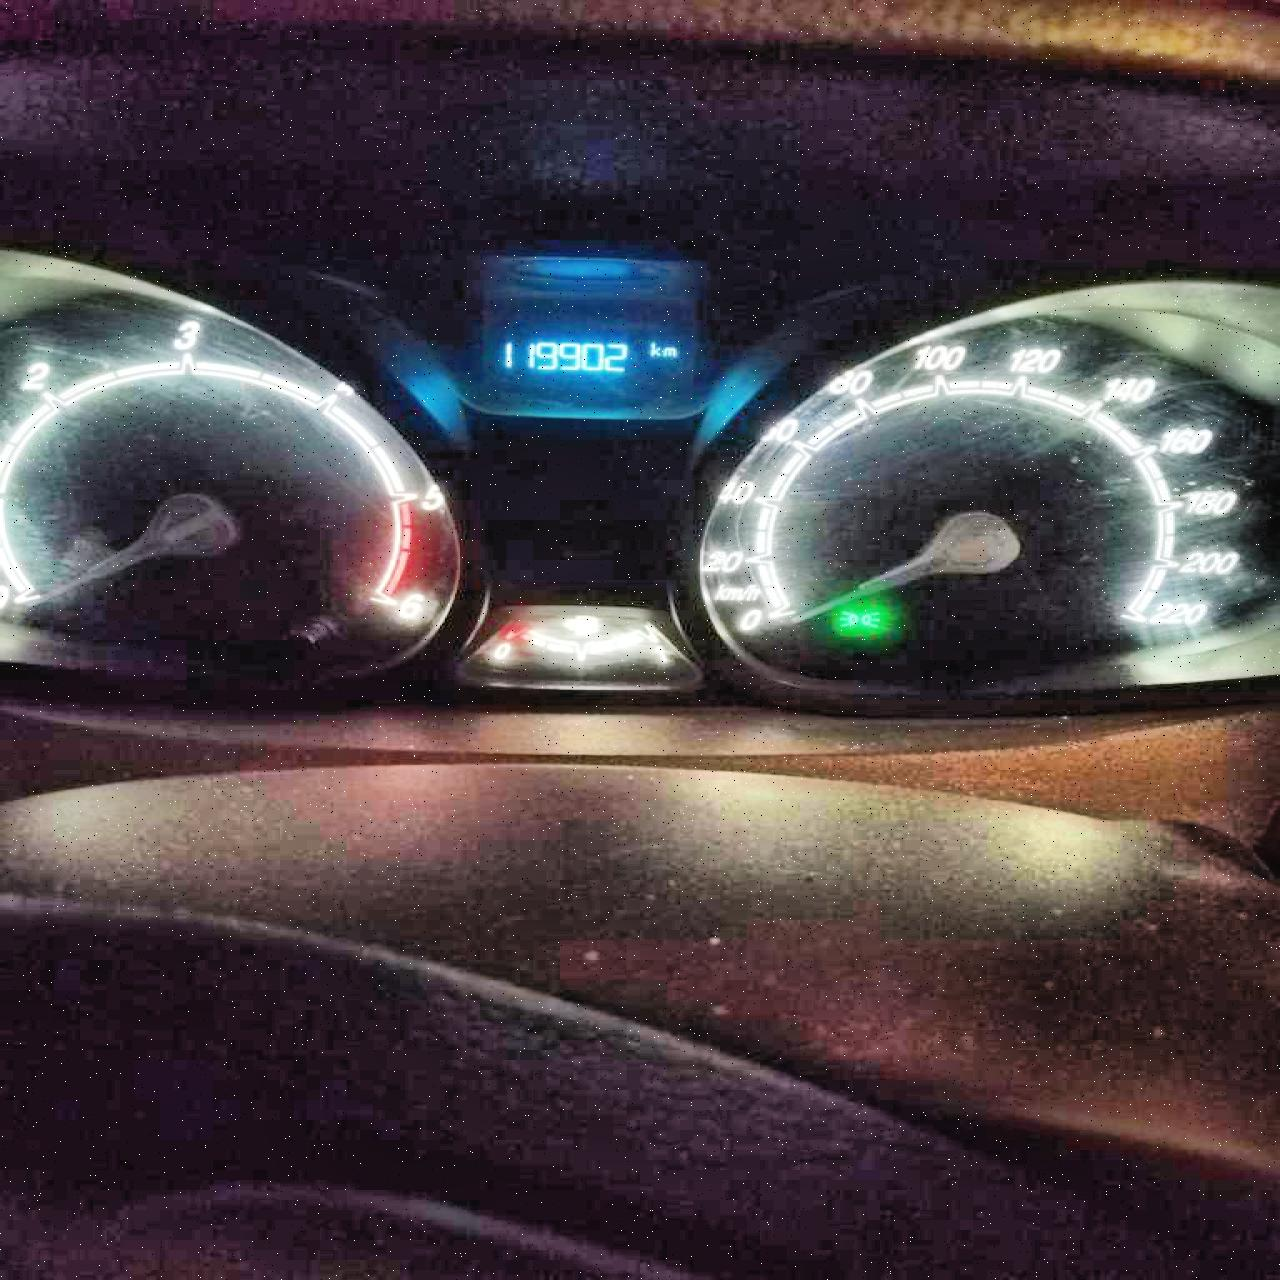0: (581, 341, 604, 370)
1: (502, 339, 516, 370), (525, 338, 535, 370)
2: (604, 340, 628, 372)
9: (557, 340, 580, 370), (536, 340, 557, 370)
X: (647, 340, 660, 358), (661, 345, 676, 358)
odometer: (489, 327, 685, 382)
